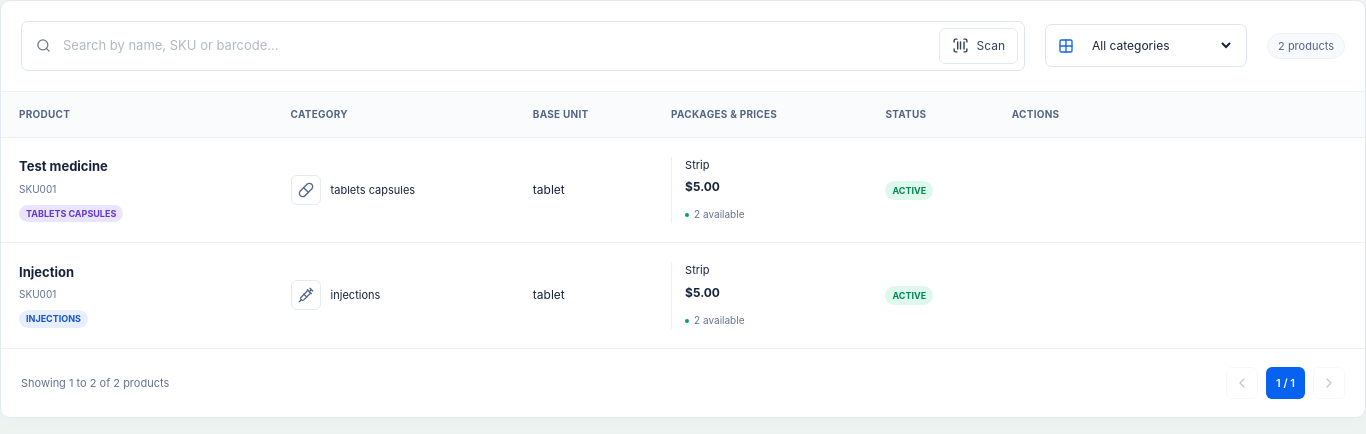
Test: medicine catalog › filters by barcode and category and focuses scanner search
Type "12345" into the field named "Search products". click: point(495, 46)
box: [63,27,927,64]
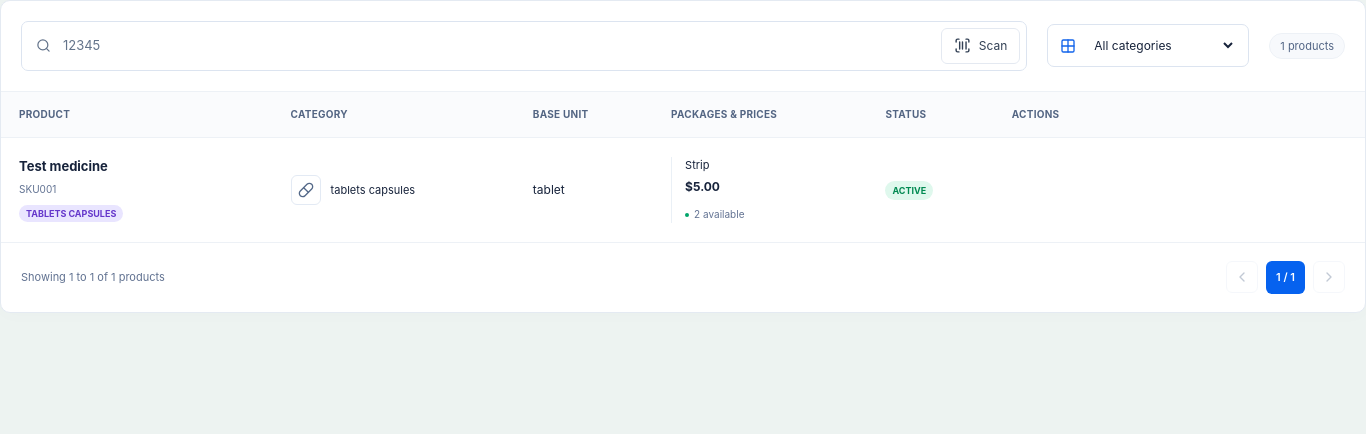
Expected: the text "Injection" is gone
Click the button "Scan". click: point(981, 46)
box: [941,28,1020,64]
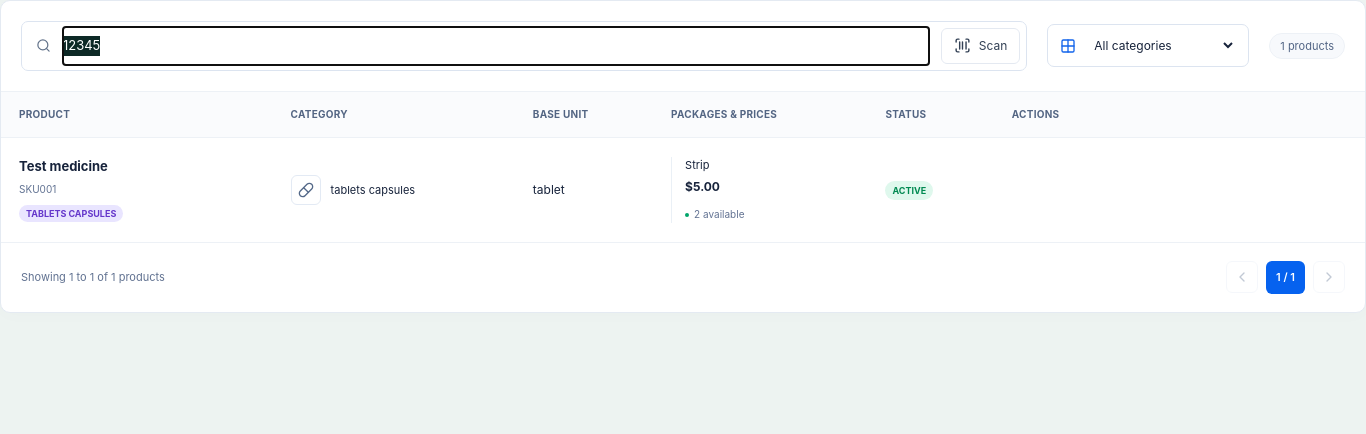
Clear the field named "Search products". click: point(496, 46)
box: [63,27,929,64]
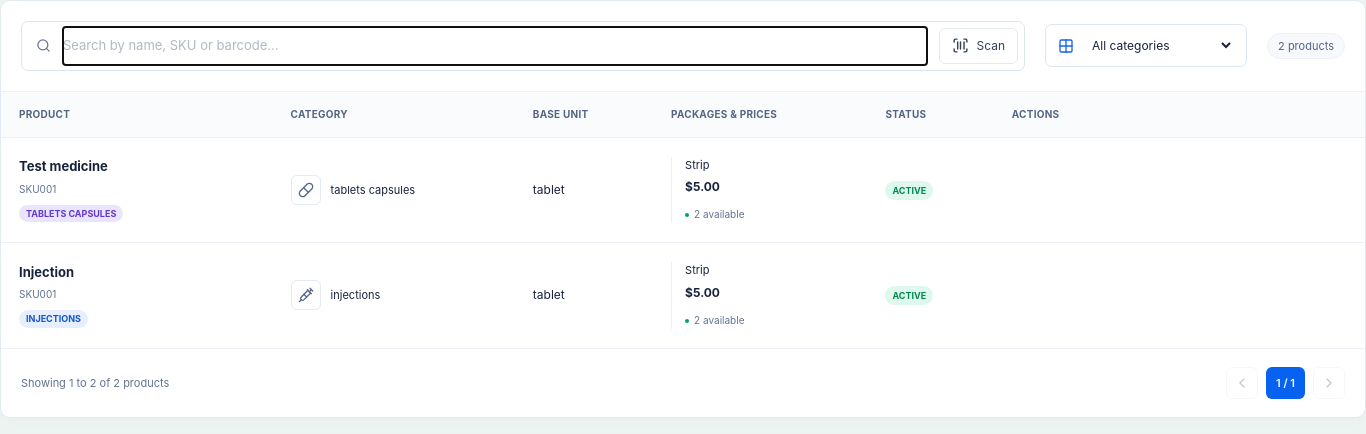
Select "injections" in the dropdown. click: point(1159, 46)
box: [1084,33,1234,58]
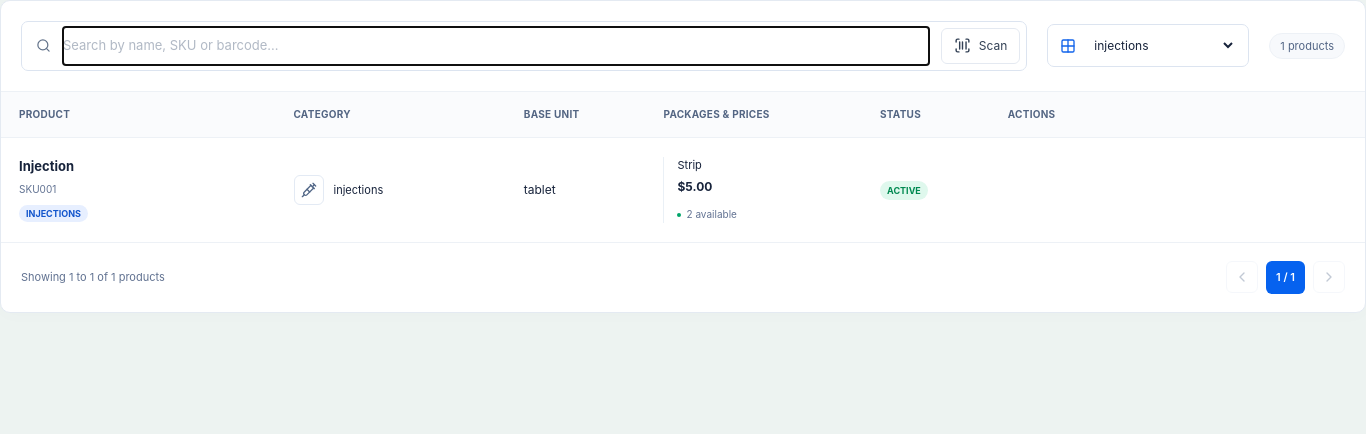
Expected: the text "Test medicine" is gone
